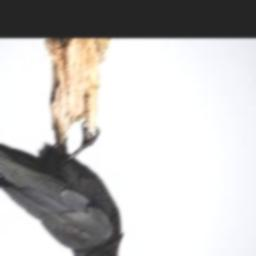Crow: (0, 126, 138, 256)
